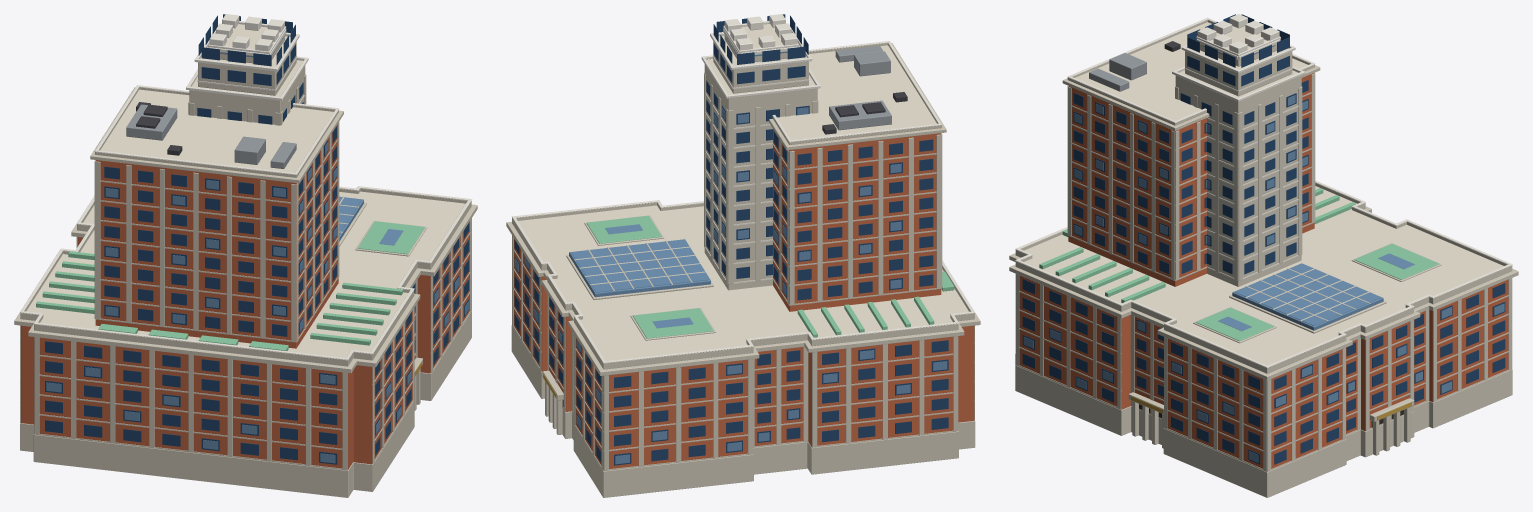
The model's file is 2-folsom.glb.
The picture shows the model from 3 angles, left to right: view 1: azimuth 30°, elevation 25°; view 2: azimuth 150°, elevation 25°; view 3: azimuth 270°, elevation 25°; orthographic projection. The views are drawn at different scales.
Visible parts, largest first — view 1: base_body, sup_body, base_course, terrace_deck, sup_deck, base_parapet, base_cornice, base_coping, tower_body, tower_step1, sup_cornice, lawn_b (+28 smaller); view 2: base_body, terrace_deck, sup_body, base_course, tower_body, sup_deck, skylight_glow, base_parapet, base_cornice, base_coping, tower_step1, lawn_a (+30 smaller); view 3: base_body, terrace_deck, sup_body, base_course, tower_body, base_parapet, skylight_glow, sup_deck, base_cornice, base_coping, tower_step1, lawn_a (+23 smaller).
Boxes of the visible parts, <box> form: base_body: <box>21,221,469,469</box>; sup_body: <box>95,125,338,348</box>; base_course: <box>20,311,471,497</box>; terrace_deck: <box>26,191,465,357</box>; sup_deck: <box>100,89,333,172</box>; base_parapet: <box>20,188,471,366</box>; base_cornice: <box>14,204,477,373</box>; base_coping: <box>20,186,471,359</box>; tower_body: <box>189,60,305,124</box>; tower_step1: <box>198,36,296,95</box>; sup_cornice: <box>90,87,343,183</box>; lawn_b: <box>357,221,424,254</box>; base_body: <box>514,239,974,469</box>; terrace_deck: <box>518,205,968,360</box>; sup_body: <box>773,129,941,311</box>; base_course: <box>511,325,975,497</box>; tower_body: <box>704,59,817,290</box>; sup_deck: <box>777,45,936,139</box>; skylight_glow: <box>571,239,708,292</box>; base_parapet: <box>512,202,974,369</box>; base_cornice: <box>506,221,980,375</box>; base_coping: <box>512,200,975,363</box>; tower_step1: <box>713,35,808,93</box>; lawn_a: <box>633,308,713,338</box>; base_body: <box>1019,275,1508,468</box>; terrace_deck: <box>1024,186,1503,365</box>; sup_body: <box>1068,73,1314,286</box>; base_course: <box>1015,354,1512,497</box>; tower_body: <box>1175,70,1301,286</box>; base_parapet: <box>1015,183,1512,373</box>; skylight_glow: <box>1235,264,1381,325</box>; sup_deck: <box>1075,22,1307,120</box>; base_cornice: <box>1009,206,1518,380</box>; base_coping: <box>1015,180,1512,367</box>; tower_step1: <box>1185,48,1292,96</box>; lawn_a: <box>1354,243,1438,279</box>.
Size of the model in its own units: 114 by 88 by 114.
